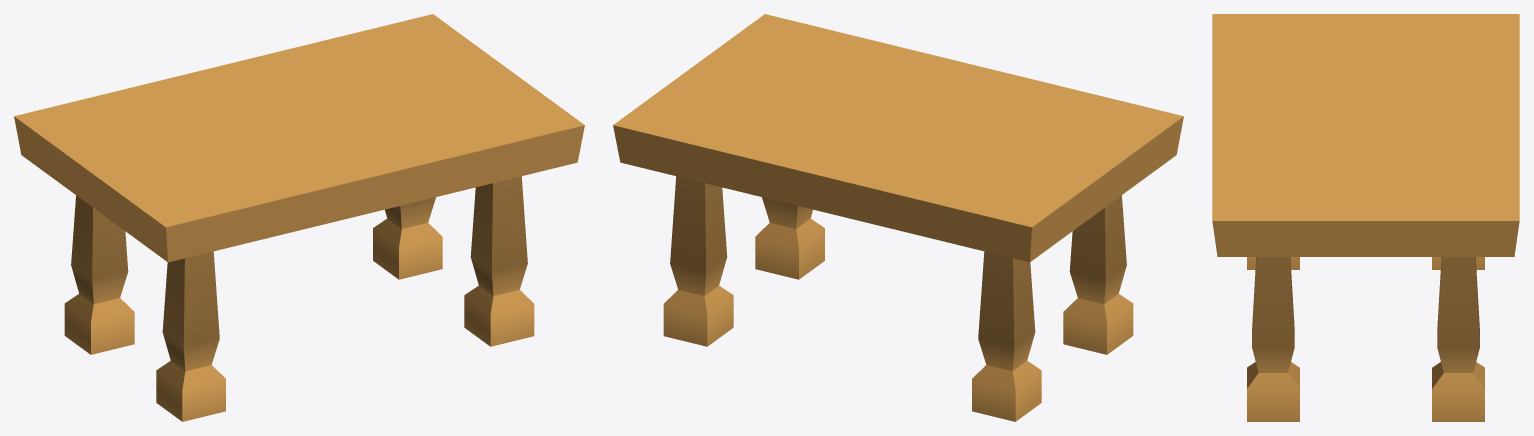
Rendered from table_thin.glb.
3 renders of one model, left to right at view 1: azimuth 30°, elevation 25°; view 2: azimuth 150°, elevation 25°; view 3: azimuth 270°, elevation 25°, orthographic.
Parts seen in each view (by area): view 1: table_thin; view 2: table_thin; view 3: table_thin.
Boxes of the visible parts, <box> form: table_thin: <box>14,14,584,421</box>; table_thin: <box>613,14,1183,421</box>; table_thin: <box>1212,14,1519,421</box>.
Bounding box in the file's own units: 1.82 × 0.8914 × 1.14.
